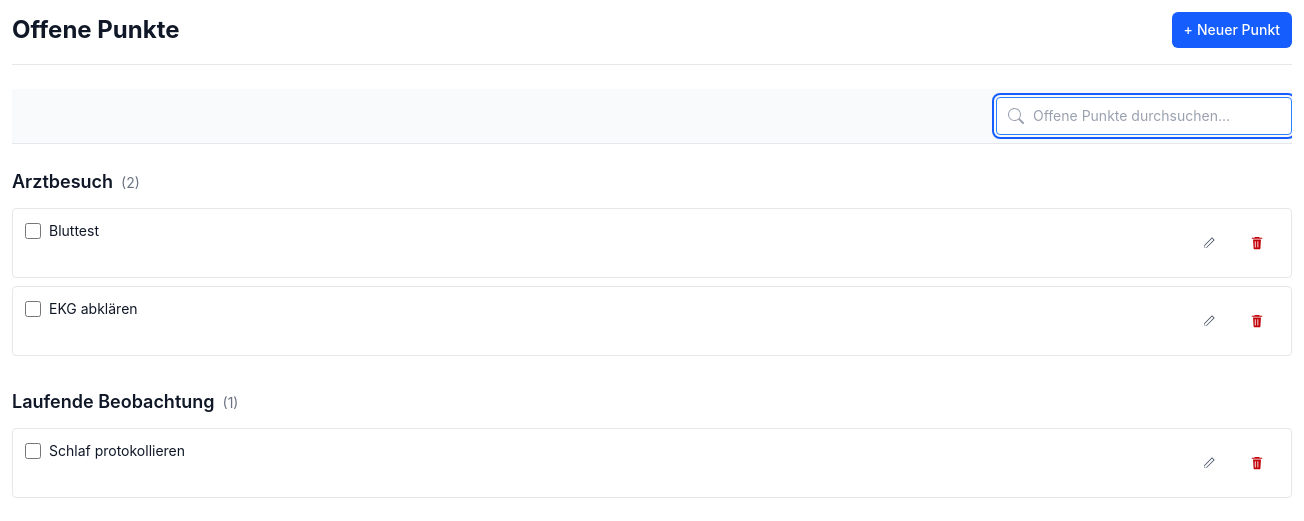
Test: OpenPointsView › search filter (P-22d) › renders prev/next match-nav when matchCount >= 2 (P-22b/c/d-polish)
Check: the heading "Arztbesuch (2)" is shown, box [12,171,140,192]
Note: Broad query hitting both contexts.
In the search field: point(1144, 116) [996,97,1292,135], type "e"
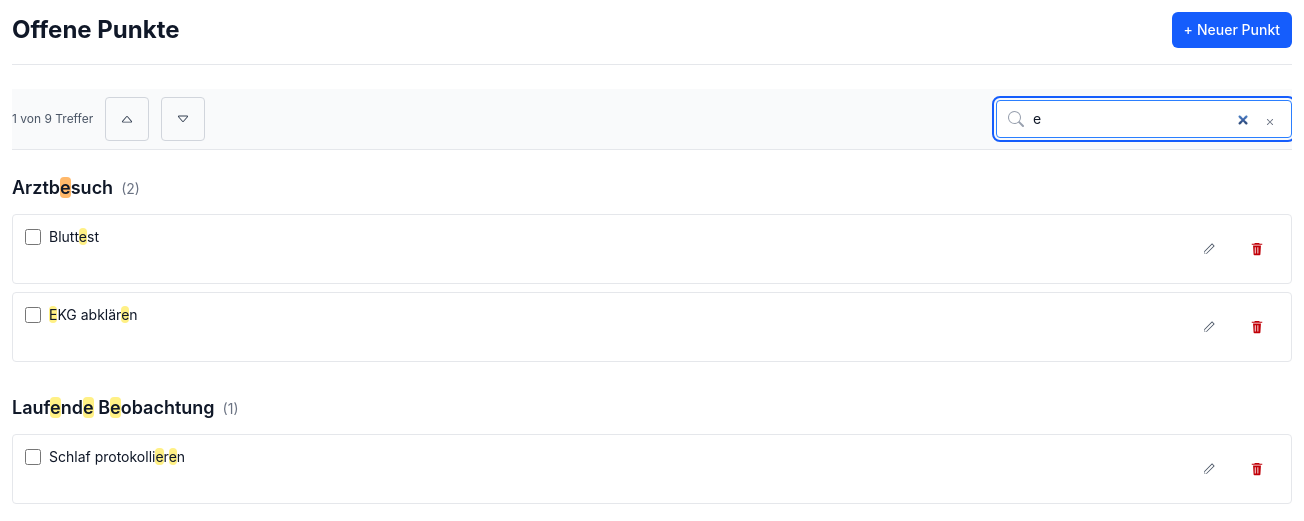
Check: the button with test id "open-points-search-prev" is shown, box [105,97,149,141]
Check: the button with test id "open-points-search-next" is shown, box [161,97,205,141]
